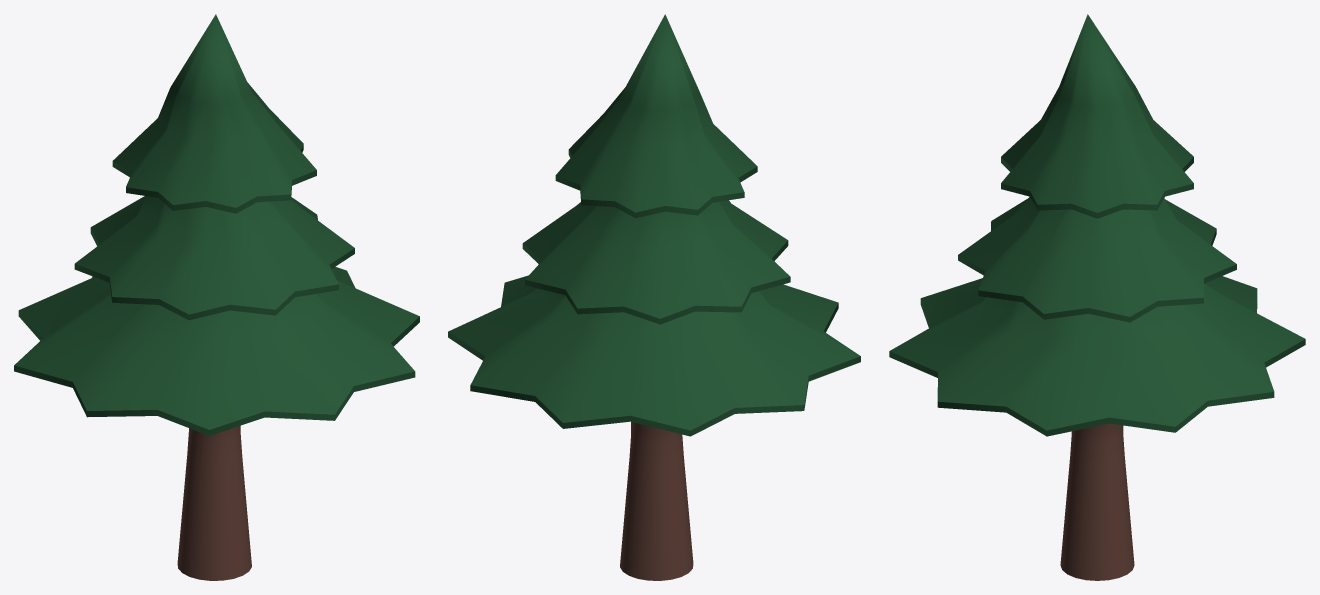
The model's file is Mesh_Tree_02.fbx.
The picture shows the model from 3 angles, left to right: view 1: azimuth 30°, elevation 25°; view 2: azimuth 150°, elevation 25°; view 3: azimuth 270°, elevation 25°; orthographic projection.
Visible parts, largest first — view 1: Tree_base, Tree_middle, Tree_top, Tree_Trunk; view 2: Tree_base, Tree_middle, Tree_top, Tree_Trunk; view 3: Tree_base, Tree_middle, Tree_top, Tree_Trunk.
Boxes of the visible parts, x1,y1,x2,y2 form: Tree_base: (14,267,419,435); Tree_middle: (74,196,354,320); Tree_top: (112,14,316,213); Tree_Trunk: (177,425,251,580); Tree_base: (448,275,860,436); Tree_middle: (522,200,790,324); Tree_top: (555,14,757,218); Tree_Trunk: (620,422,693,580); Tree_base: (889,276,1305,436); Tree_middle: (958,196,1236,322); Tree_top: (1001,14,1193,218); Tree_Trunk: (1060,423,1134,580).
Bounding box in the file's own units: 77.31 × 116 × 79.5.
